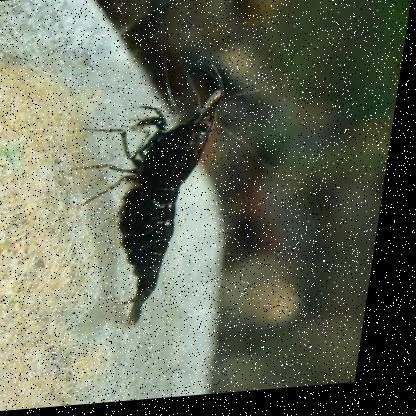shrimp: (67, 86, 230, 334)
